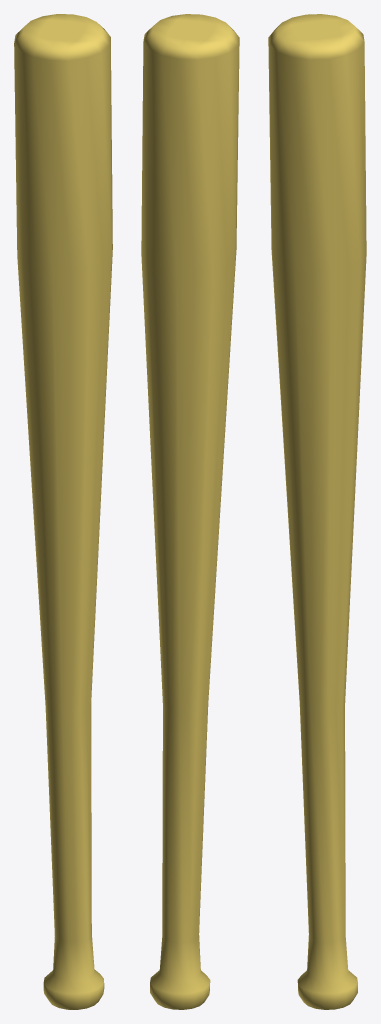
File: animal_company_-_baseball_bat.glb
3 renders of one model, left to right at view 1: azimuth 30°, elevation 25°; view 2: azimuth 210°, elevation 25°; view 3: azimuth 330°, elevation 25°, orthographic.
Visible parts, largest first — view 1: baseball_bat_5; view 2: baseball_bat_5; view 3: baseball_bat_5.
Part boxes in pixels (x1=…): baseball_bat_5: x1=14, y1=14, x2=112, y2=1009; baseball_bat_5: x1=141, y1=14, x2=239, y2=1009; baseball_bat_5: x1=268, y1=14, x2=366, y2=1009.
Bounding box in the file's own units: 0.0828 × 0.888 × 0.0808.
